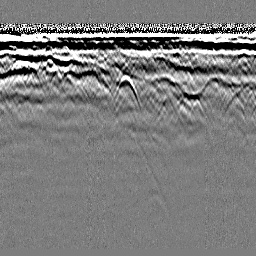cavity: (115, 70, 141, 109)
